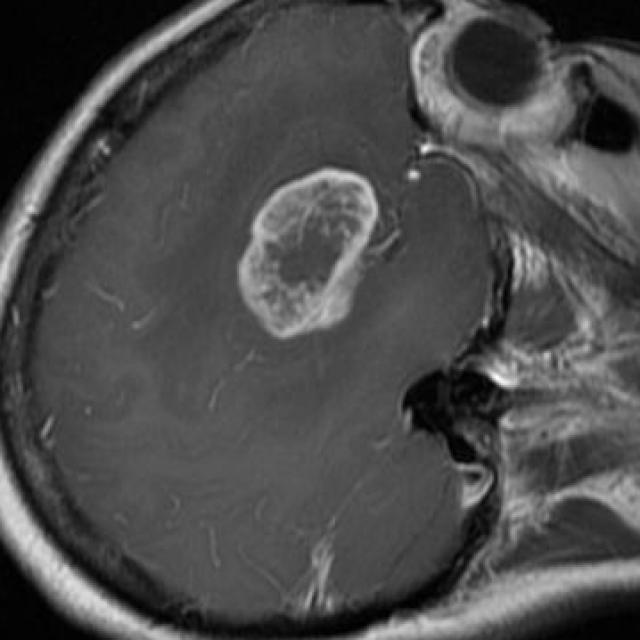glioma: (237, 166, 378, 342)
